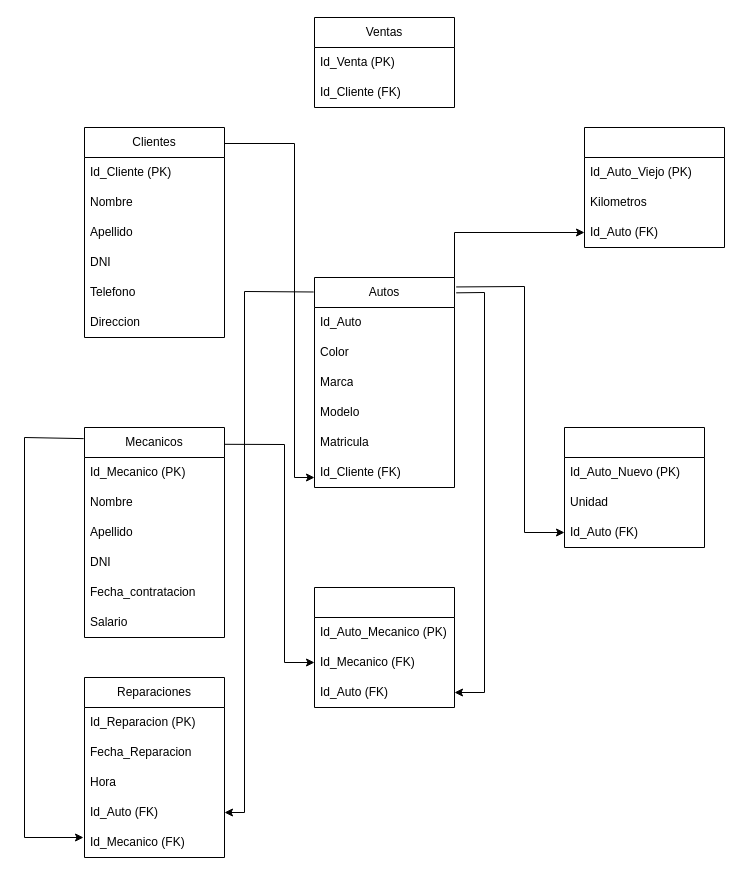
Image size: 742x875. Some labels were removed from this diagram. Each missing label, with the box of its shape:
Autos_Mecanicos: (314, 586, 454, 708)
Autos_Nuevos: (564, 426, 704, 548)
Autos_Viejos: (584, 126, 724, 248)
